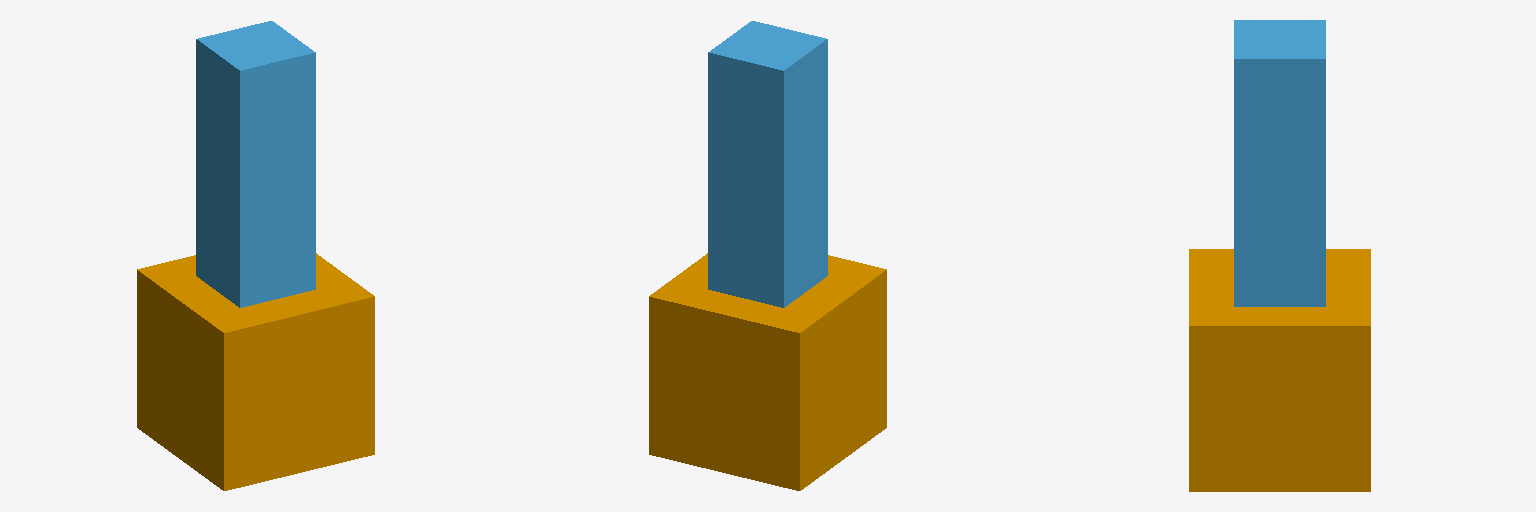
The robot description file, URDF, robot "boxbot":
<?xml version="1.0"?>
<robot name="boxbot">
  <link name="base_link">
    <visual><geometry><box size="0.1 0.1 0.1"/></geometry></visual>
  </link>
  <link name="tip">
    <visual><geometry><box size="0.05 0.05 0.2"/></geometry></visual>
    <inertial>
      <origin xyz="0 0 0" rpy="0 0 0"/>
      <mass value="0.3"/>
      <inertia ixx="0.001" ixy="0" ixz="0" iyy="0.001" iyz="0" izz="0.001"/>
    </inertial>
  </link>
  <joint name="j" type="revolute">
    <origin xyz="0 0 0.1" rpy="0 0 0"/>
    <parent link="base_link"/><child link="tip"/>
    <axis xyz="0 0 1"/>
    <limit lower="-1" upper="1" effort="10" velocity="3"/>
  </joint>
</robot>

--- What the picture shows (computed from the rendered views, not written in the file) ---
3 views of the same robot in one strip: view 1: azimuth 30°, elevation 25°; view 2: azimuth 150°, elevation 25°; view 3: azimuth 270°, elevation 25° (orthographic).
Model boxbot with 2 links and 1 joints (1 revolute), rooted at base_link, posed all joints at 0.
Links seen in each view (by area): view 1: base_link, tip; view 2: base_link, tip; view 3: base_link, tip.
Link boxes in pixels (<box>): base_link: <box>137,253,374,490</box>; tip: <box>196,21,315,307</box>; base_link: <box>649,253,886,490</box>; tip: <box>708,21,827,307</box>; base_link: <box>1189,249,1370,491</box>; tip: <box>1234,20,1325,306</box>.
Bounding box of the posed robot: 0.1 × 0.1 × 0.25 m (x, y, z).
Geometry: primitives only (box / cylinder / sphere), no mesh files.
